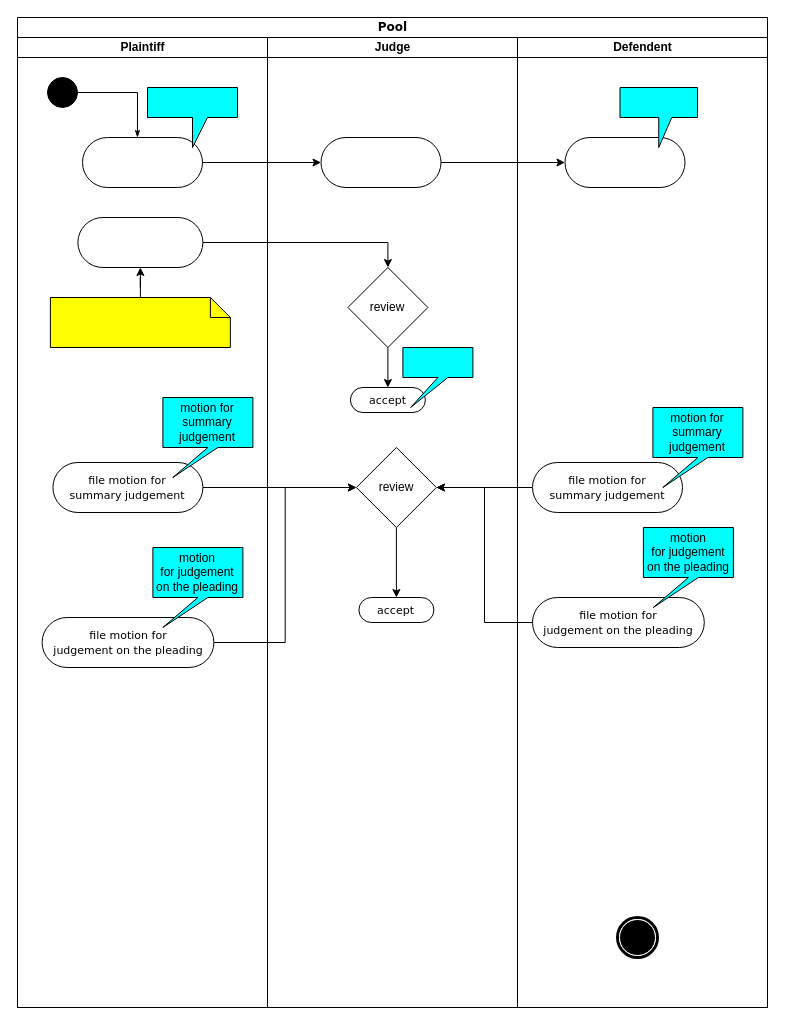
Some shapes in this 785 by 1025 pixel diagram are drawn without their labels. Each missing label, with the centre of its shape:
"answer" goes at point (658, 117).
"complaint filing" goes at point (192, 117).
"default judgement" goes at point (437, 377).
"file for default judgement" goes at point (140, 242).
"files the complaint to the court" goes at point (142, 162).
"if defendent does not respond within specfied days" goes at point (139, 322).
"issue summons" goes at point (380, 162).
"reply to summons" goes at point (624, 162).
